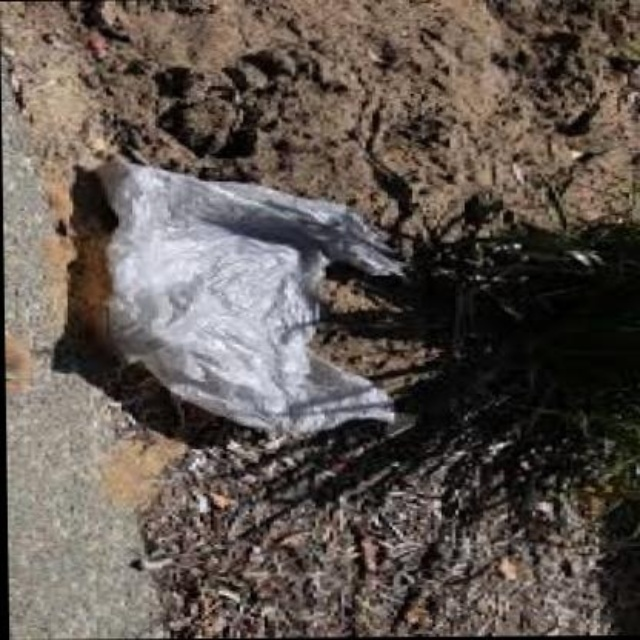trash: (98, 160, 400, 434)
